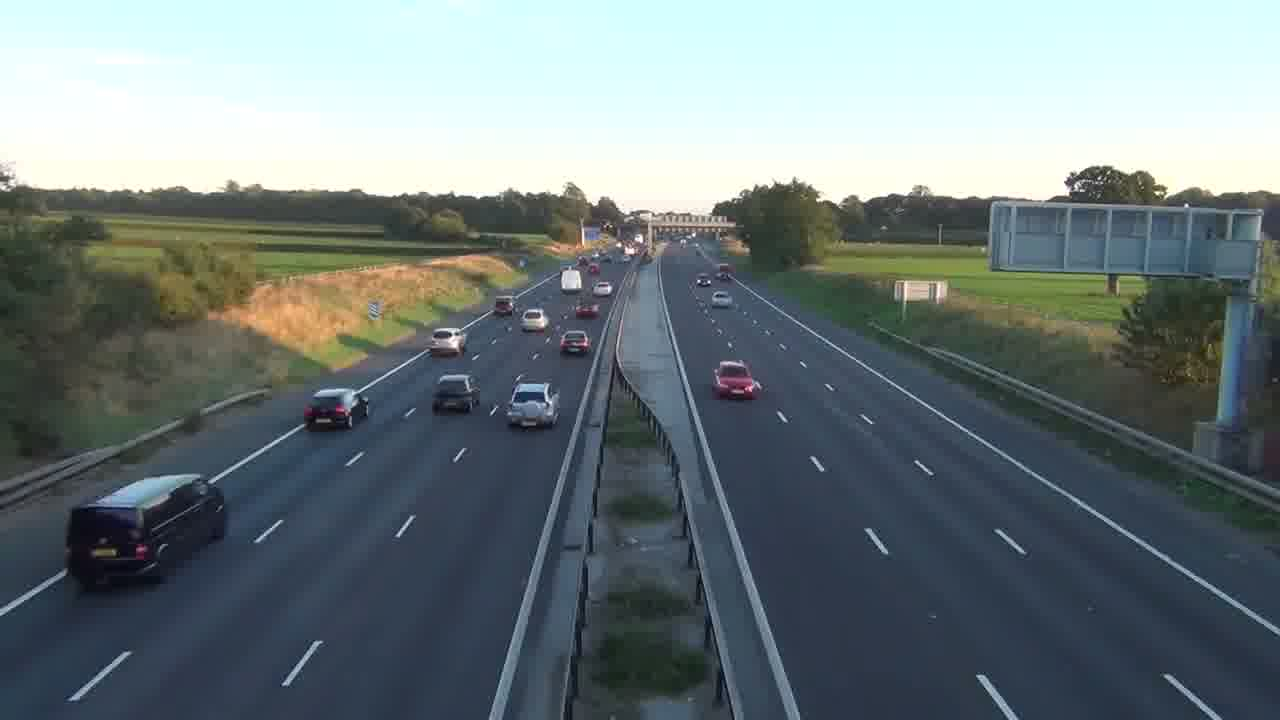car: (303, 387, 362, 432), (508, 381, 561, 429), (432, 372, 481, 414), (712, 360, 760, 400), (430, 326, 467, 357), (521, 308, 548, 333), (711, 290, 733, 308)
truck: (64, 471, 227, 591)
